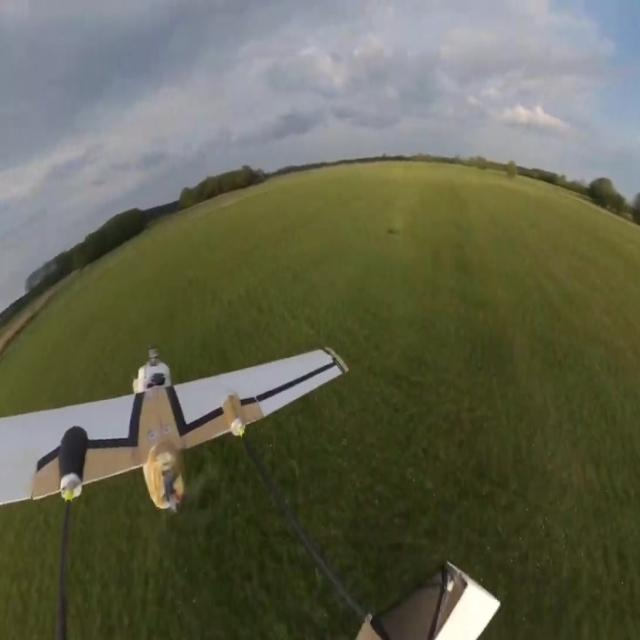iha: (0, 340, 502, 640)
